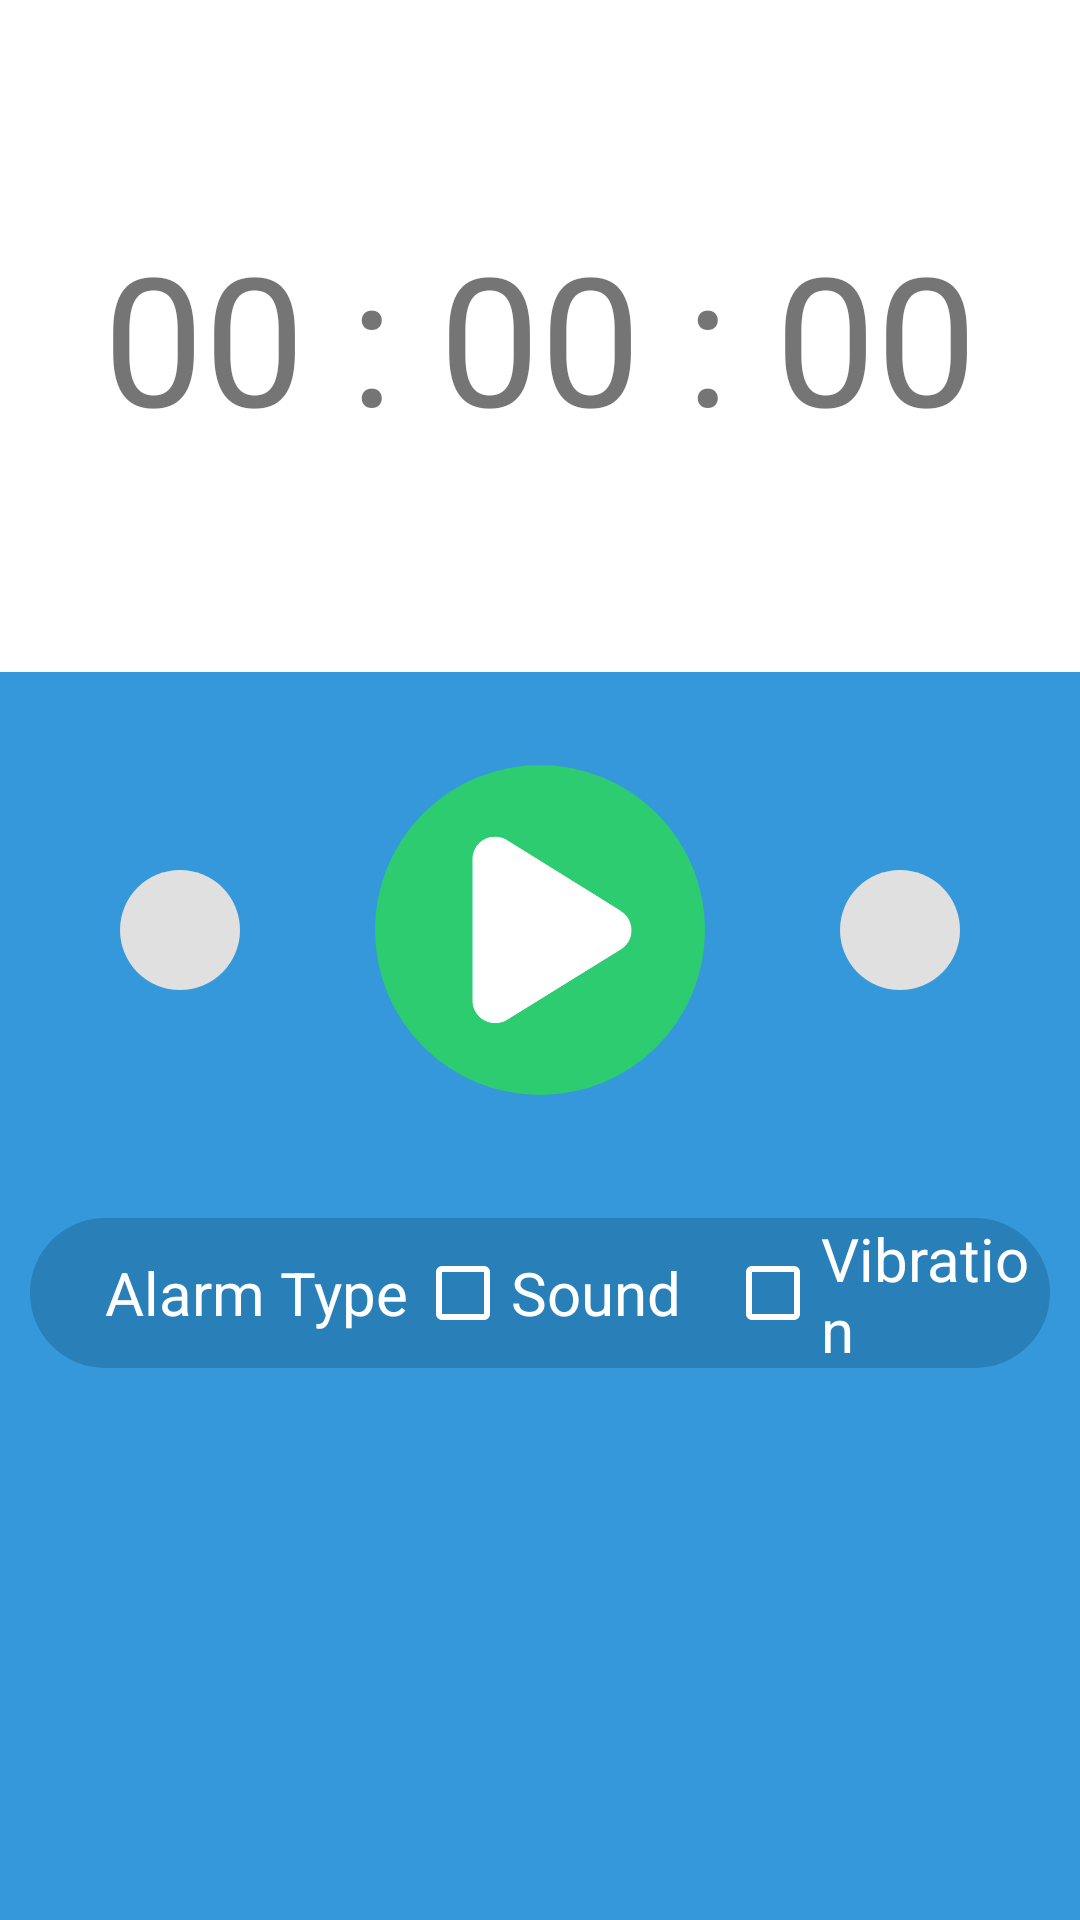

Named icons in this screenshot (1080*1920) and their bounding boxes, detection(x1, y1, x2, y2):
play custom: detection(375, 765, 705, 1095)
